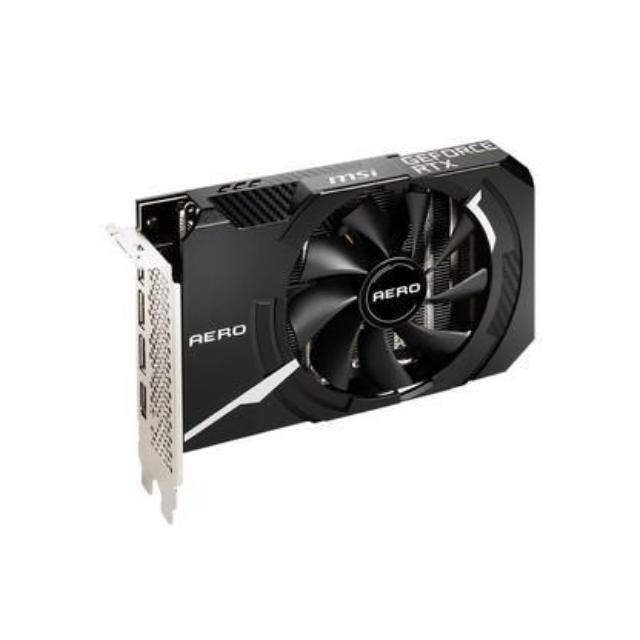GPU: (102, 134, 540, 503)
